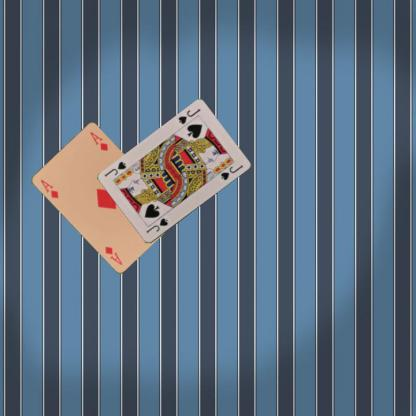Ad: (38, 177, 60, 200)
Js: (176, 106, 202, 126), (144, 216, 170, 234)
